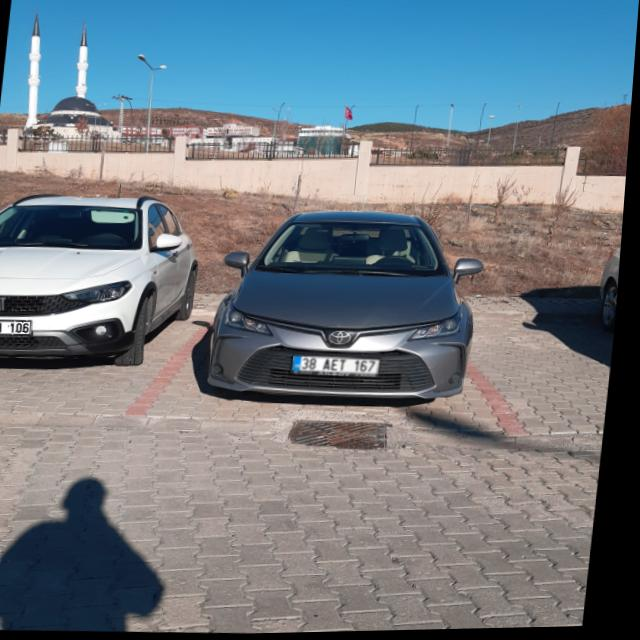license_plate: (296, 356, 385, 377), (0, 318, 36, 337)
